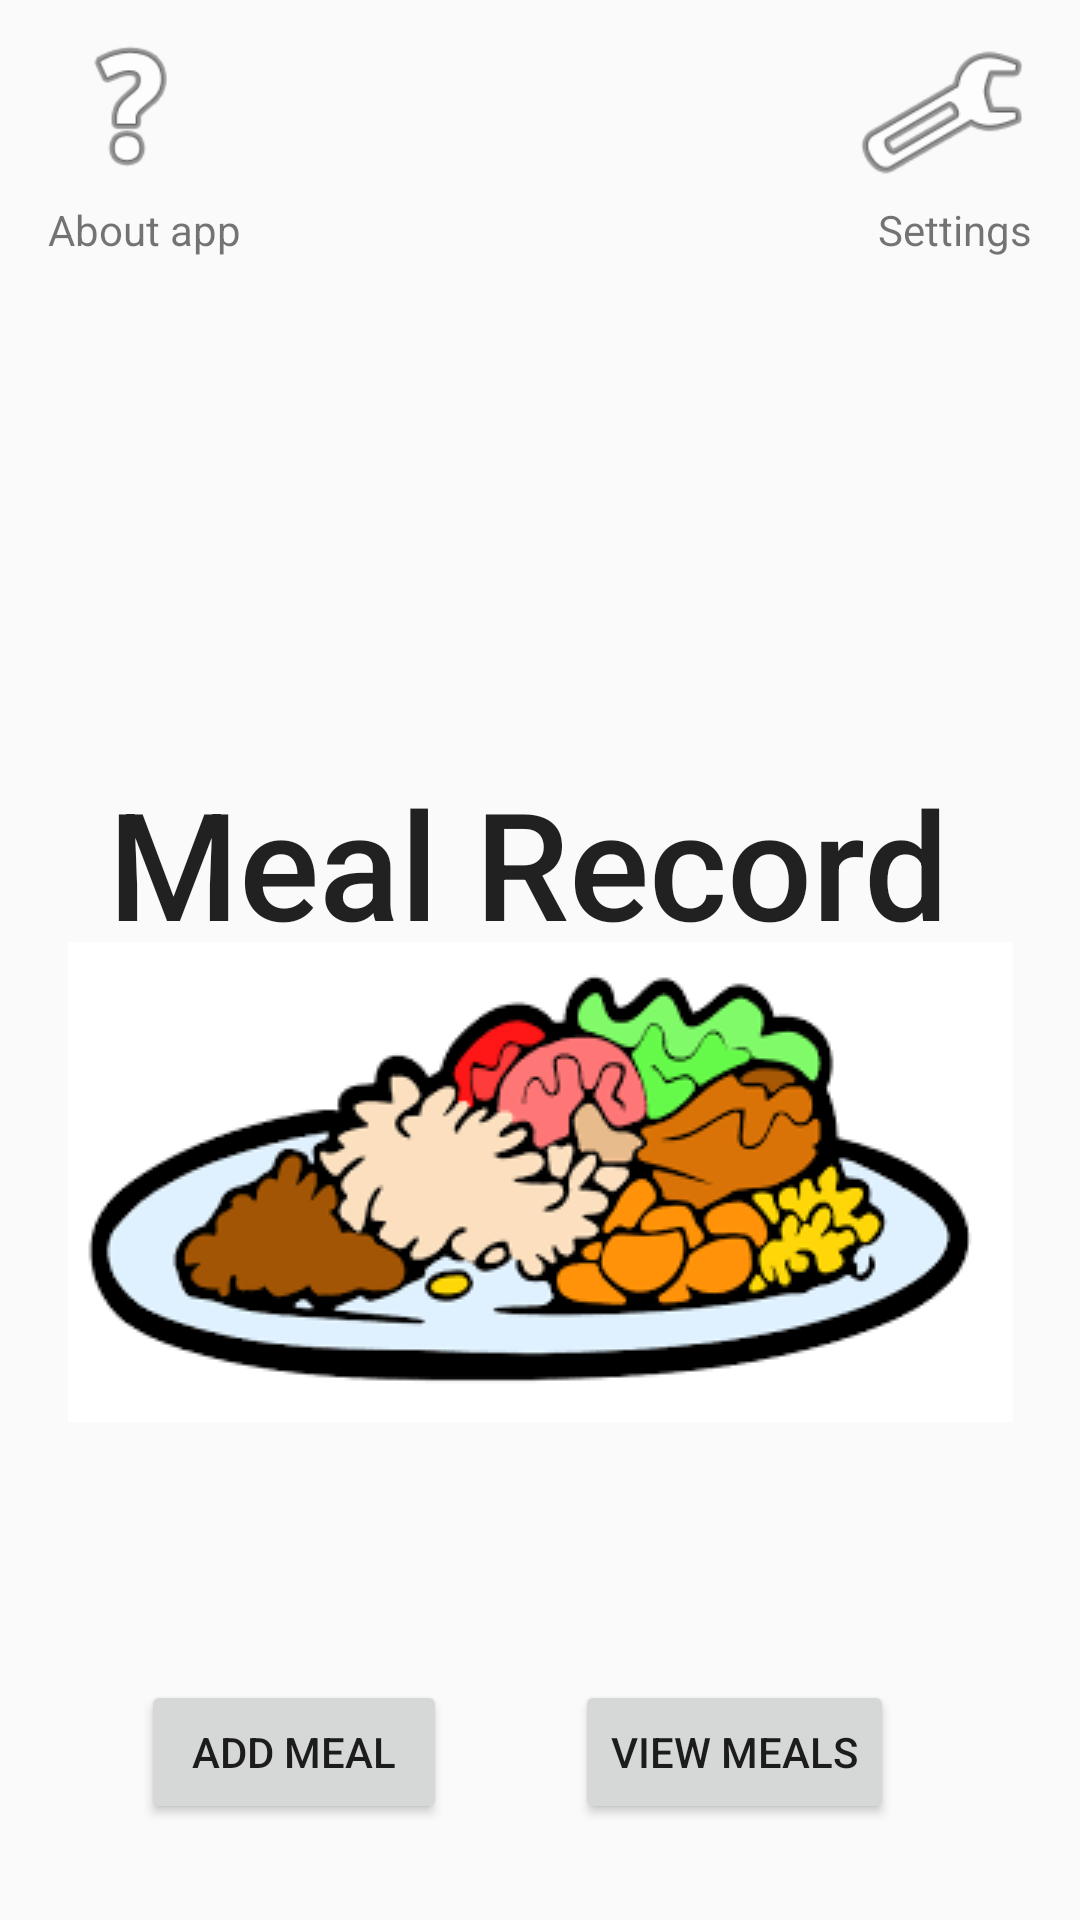

Point at icon controls on the screen. Image size 1080px x 1920px, points as (x,y).
help: (130,106)
